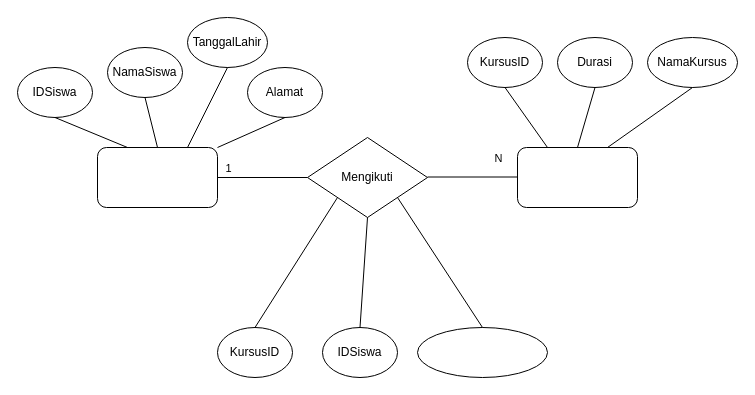
Image size: 755x395. Some labels were removed from this diagram. Here are the shapes that lost their labels. From the top down, the centre of each, then its label:
(x=157, y=177): Siswa
(x=577, y=177): Kursus
(x=482, y=352): TanggalPendaftaran
